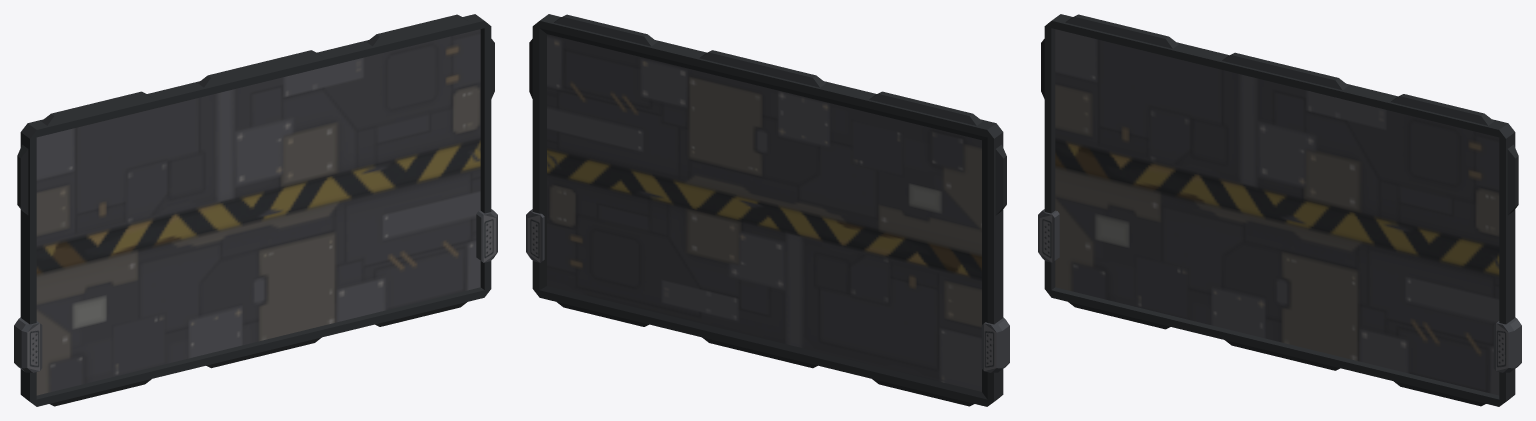
File: SM_Prop_Billboard_Backing_Small_01.fbx
3 views of the same model, side by side, from view 1: azimuth 30°, elevation 25°; view 2: azimuth 150°, elevation 25°; view 3: azimuth 330°, elevation 25° (orthographic).
Visible parts, largest first — view 1: SM_Prop_Billboard_Backing_Small_01; view 2: SM_Prop_Billboard_Backing_Small_01; view 3: SM_Prop_Billboard_Backing_Small_01.
Part boxes in pixels (x1,y1,x2,y2): SM_Prop_Billboard_Backing_Small_01: [14, 14, 497, 406]; SM_Prop_Billboard_Backing_Small_01: [526, 14, 1009, 406]; SM_Prop_Billboard_Backing_Small_01: [1038, 14, 1521, 406].
Bounding box in the file's own units: 832 × 485 × 35.2.
